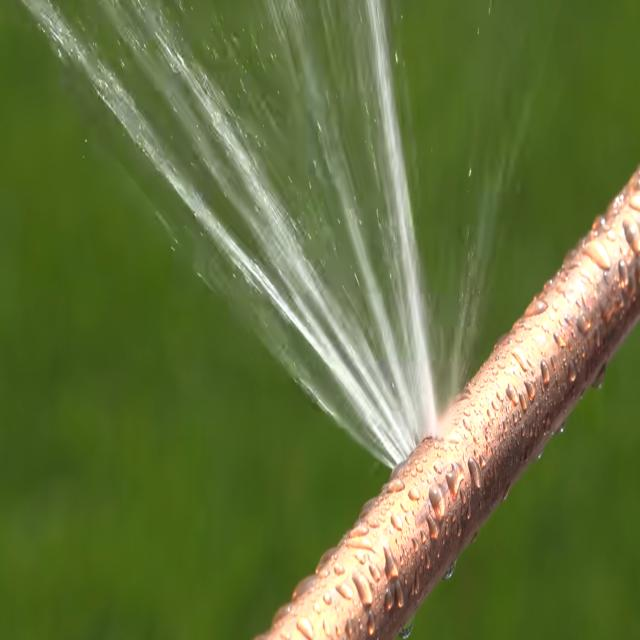leak: (14, 0, 446, 471)
